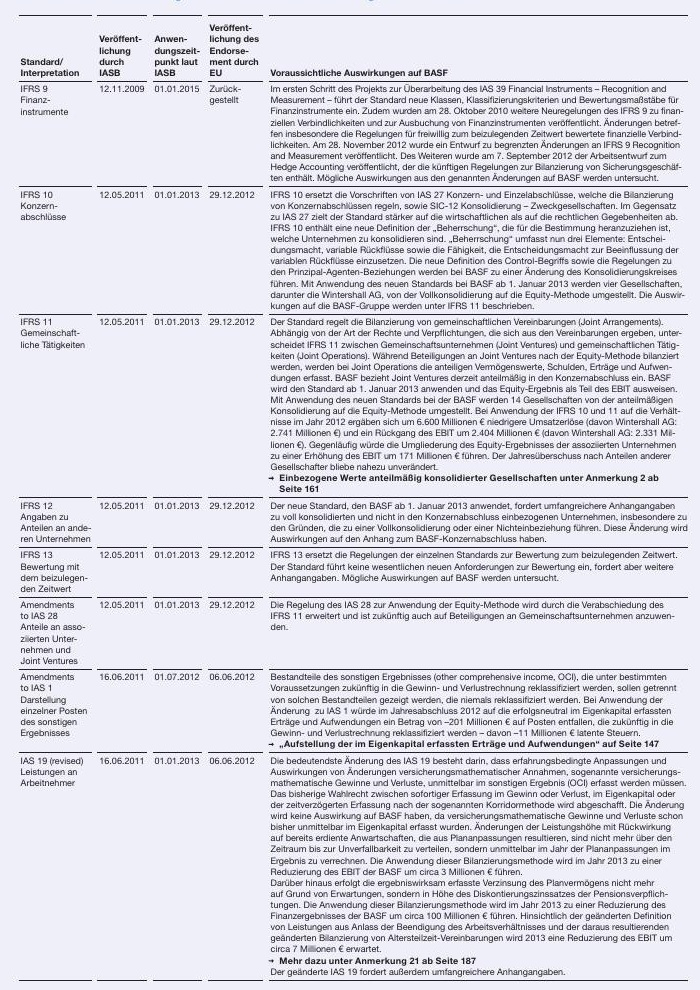table: (0, 0, 700, 990)
